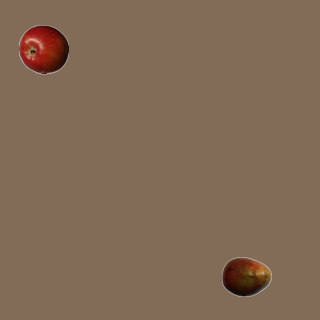Apple Braeburn: (18, 24, 68, 74)
Mango Red: (221, 251, 271, 301)
